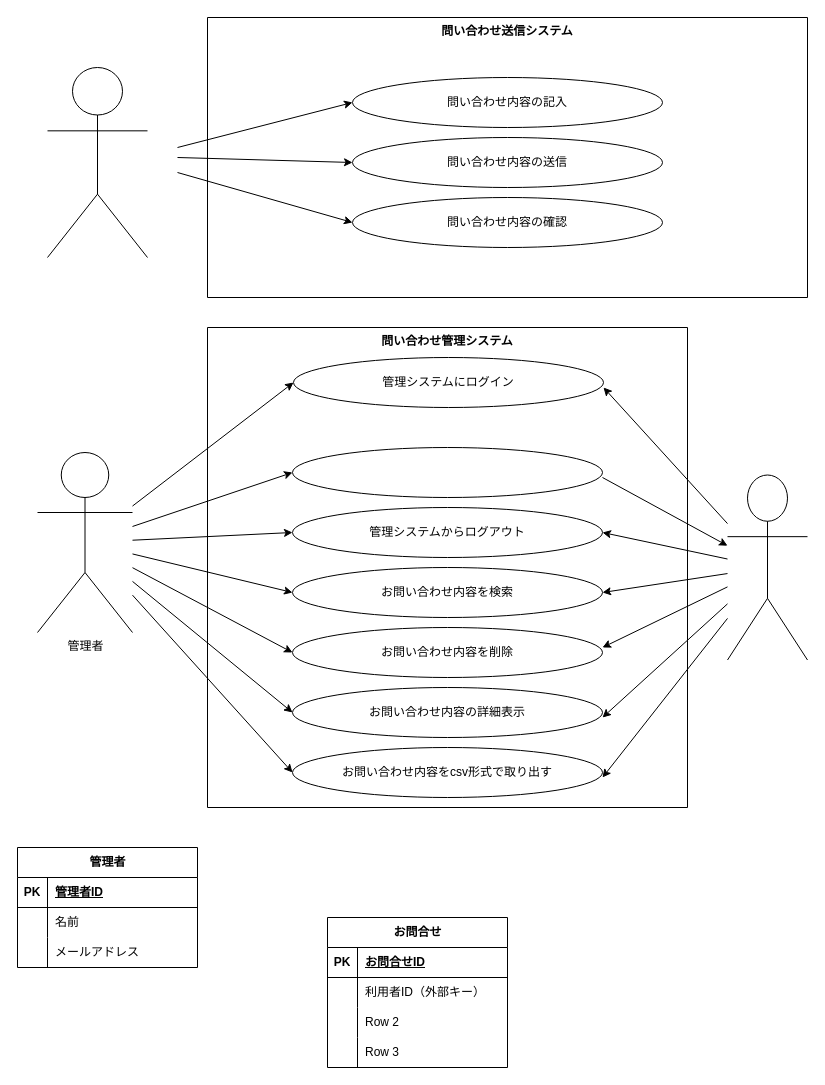
Image size: 825x1085. Some labels were removed from this diagram. Here are the shapes that lost their labels. From the top down, the centre of each, then its label:
At point 97,162: "利用者".
At point 447,472: "新規ユーザーの作成・登録".
At point 767,567: "新規管理者".
